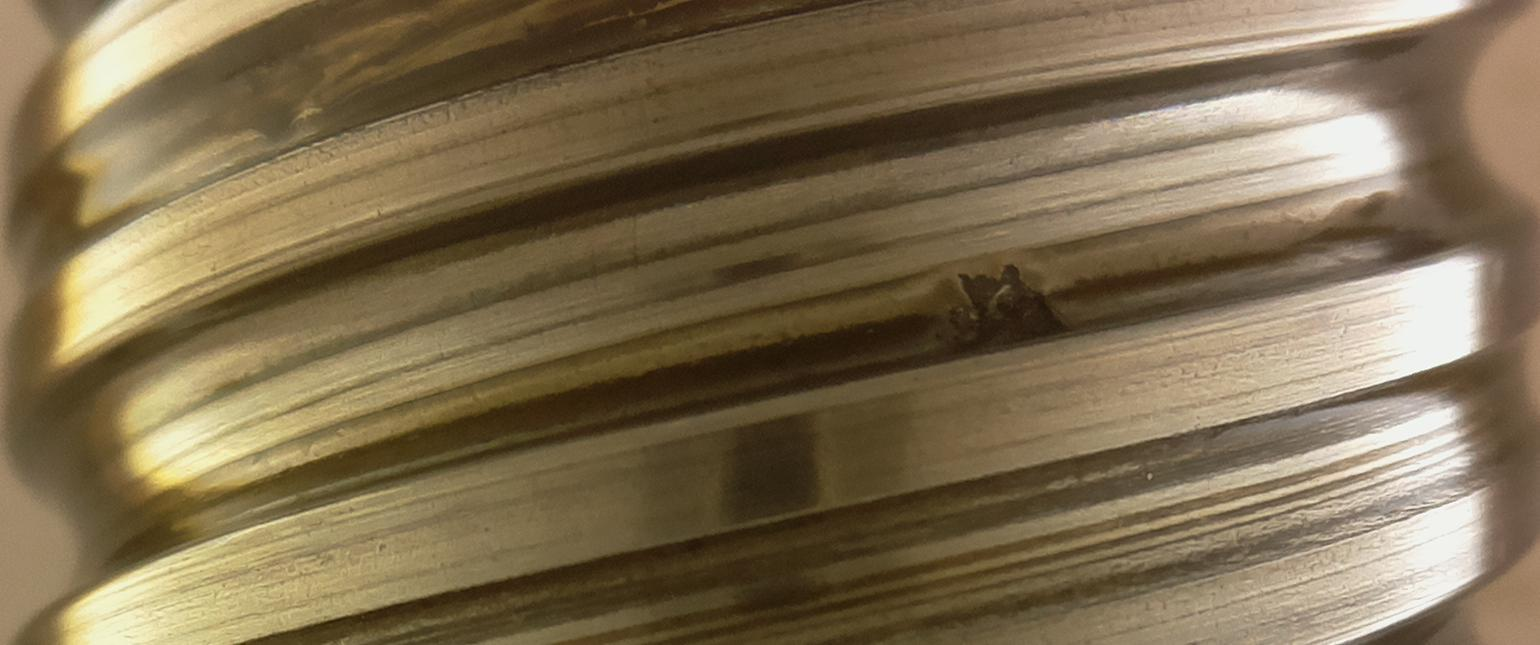pitting: (948, 264, 1073, 353)
